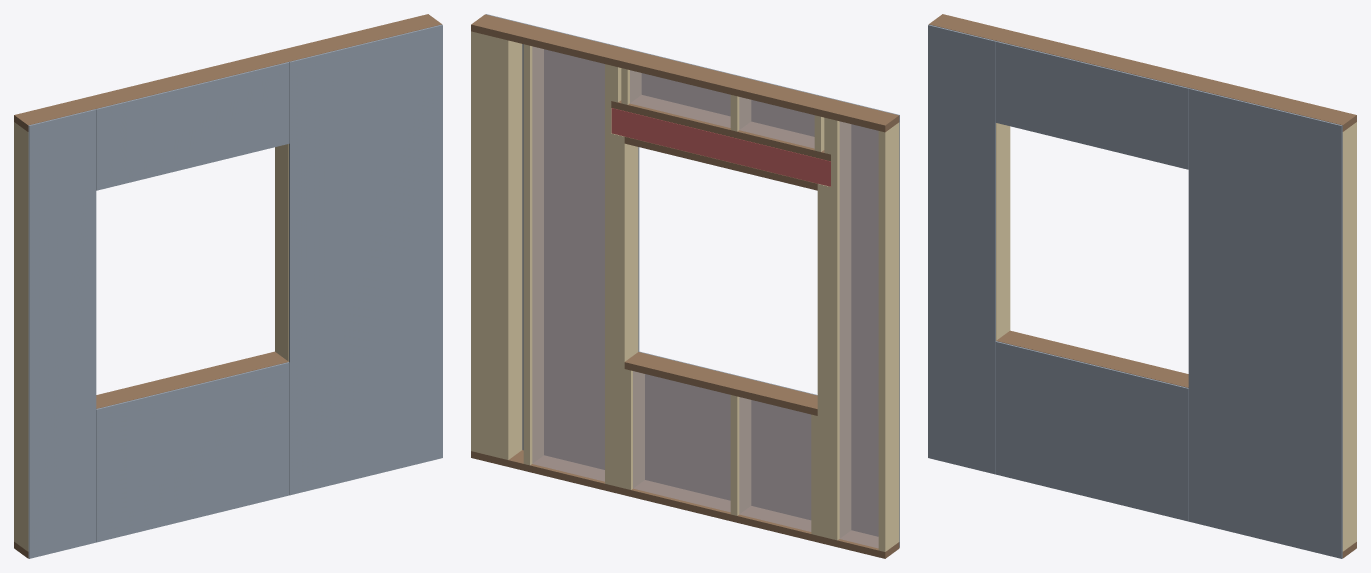
The picture shows the model from 3 angles, left to right: view 1: azimuth 30°, elevation 25°; view 2: azimuth 150°, elevation 25°; view 3: azimuth 330°, elevation 25°; orthographic projection.
Visible parts, largest first — view 1: EX14 FF; view 2: EX14 FF; view 3: EX14 FF.
Part boxes in pixels (x1,y1,x2,y2): EX14 FF: (14, 14, 442, 558); EX14 FF: (471, 14, 899, 558); EX14 FF: (928, 14, 1356, 558).
Size of the model in its own units: 2.4 by 2.4 by 0.149.
